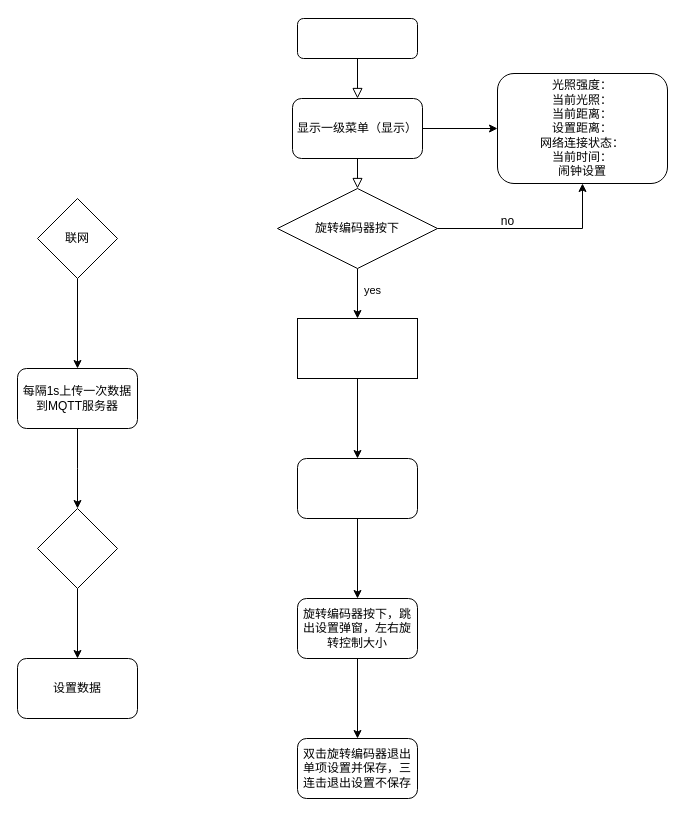
Some shapes in this 685 by 816 pixel diagram are drawn without their labels. The shapes that lost their labels are listed below. From the top down, each one's centre as x and y in pixels, then its label:
At (357,38): "上电初始化（初始化外设，读取Flash内信息）".
At (357,348): "二级菜单（设置）".
At (357,488): "旋转编码器左右旋转选择设置项".
At (77,548): "接收到收据".
